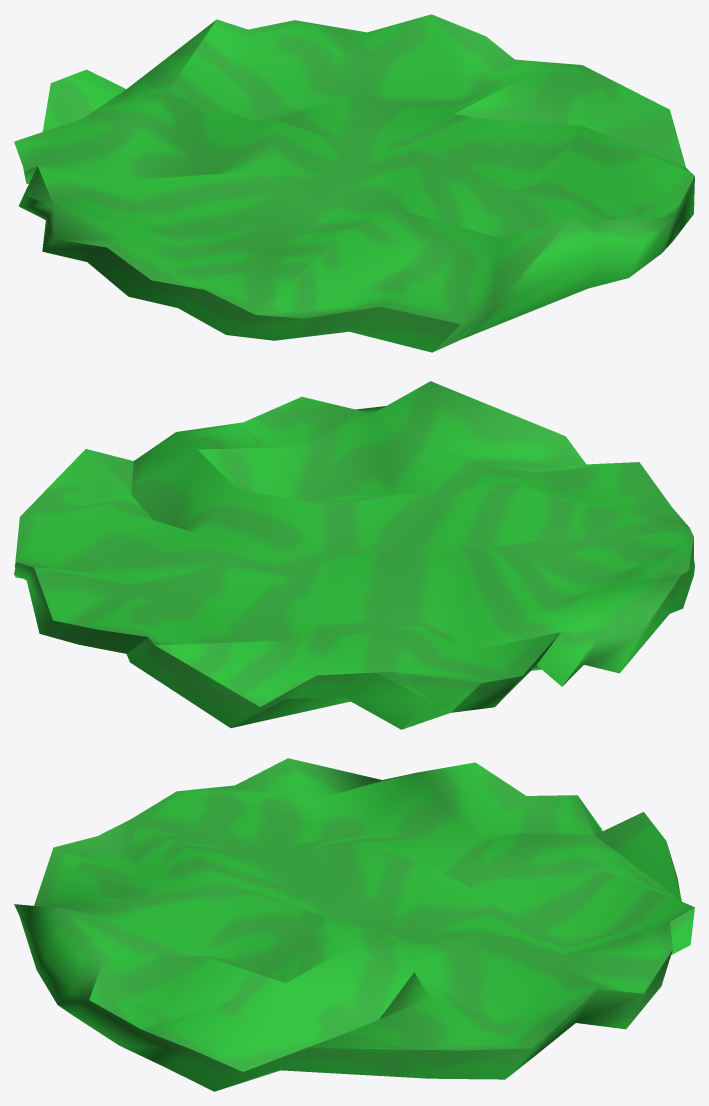
The model's file is Lettuce.fbx.
3 renders of one model, top to bottom at view 1: azimuth 30°, elevation 25°; view 2: azimuth 150°, elevation 25°; view 3: azimuth 270°, elevation 25°, orthographic. The views are drawn at different scales.
Visible parts, largest first — view 1: Plane.002; view 2: Plane.002; view 3: Plane.002.
Part boxes in pixels (<box>): Plane.002: <box>14,14,694,352</box>; Plane.002: <box>14,381,694,729</box>; Plane.002: <box>14,758,694,1091</box>.
Size of the model in its own units: 202 by 31.41 by 205.
